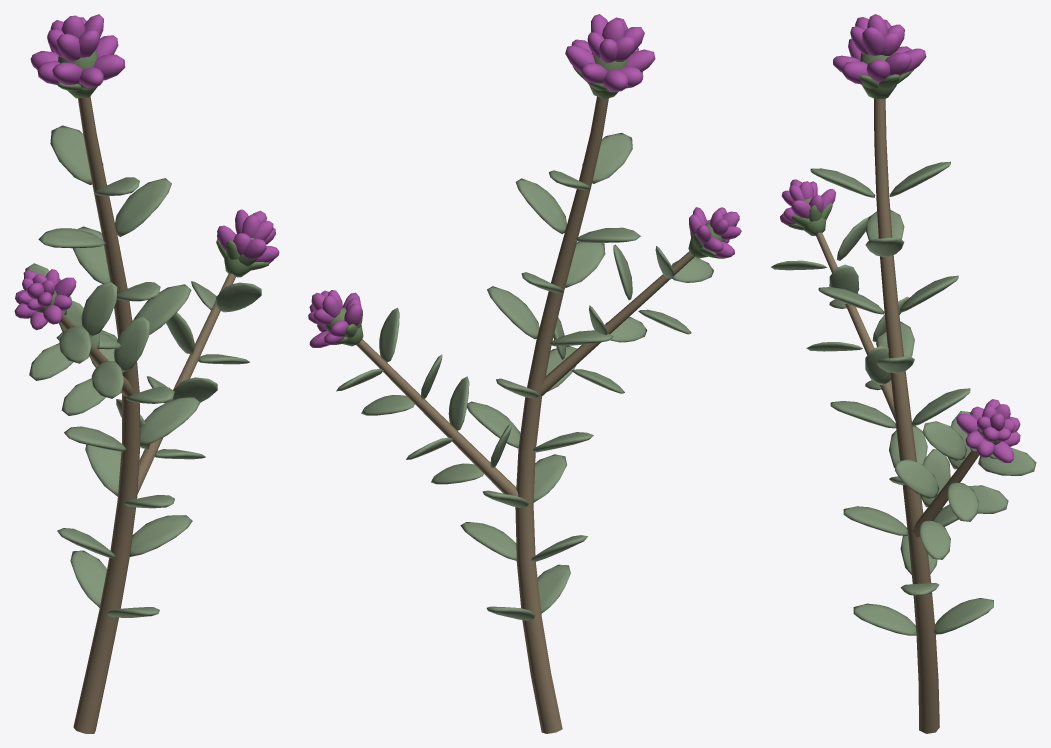
File: чай8вруке.fbx
The picture shows the model from 3 angles, left to right: view 1: azimuth 30°, elevation 25°; view 2: azimuth 150°, elevation 25°; view 3: azimuth 270°, elevation 25°; orthographic projection. The views are drawn at different scales.
Parts seen in each view (by area): view 1: Чабрец_Листья, Чабрец_Веточка, Чабрец_Соцветие; view 2: Чабрец_Листья, Чабрец_Веточка, Чабрец_Соцветие; view 3: Чабрец_Листья, Чабрец_Веточка, Чабрец_Соцветие.
Part boxes in pixels (x1,y1,x2,y2): Чабрец_Листья: (25, 125, 261, 617); Чабрец_Веточка: (59, 96, 236, 733); Чабрец_Соцветие: (14, 14, 279, 330); Чабрец_Листья: (336, 133, 713, 620); Чабрец_Веточка: (356, 96, 694, 733); Чабрец_Соцветие: (308, 14, 741, 347); Чабрец_Листья: (771, 161, 1036, 635); Чабрец_Веточка: (816, 98, 978, 733); Чабрец_Соцветие: (780, 14, 1020, 462).
Size of the model in its own units: 0.7729 by 1.55 by 0.535.
